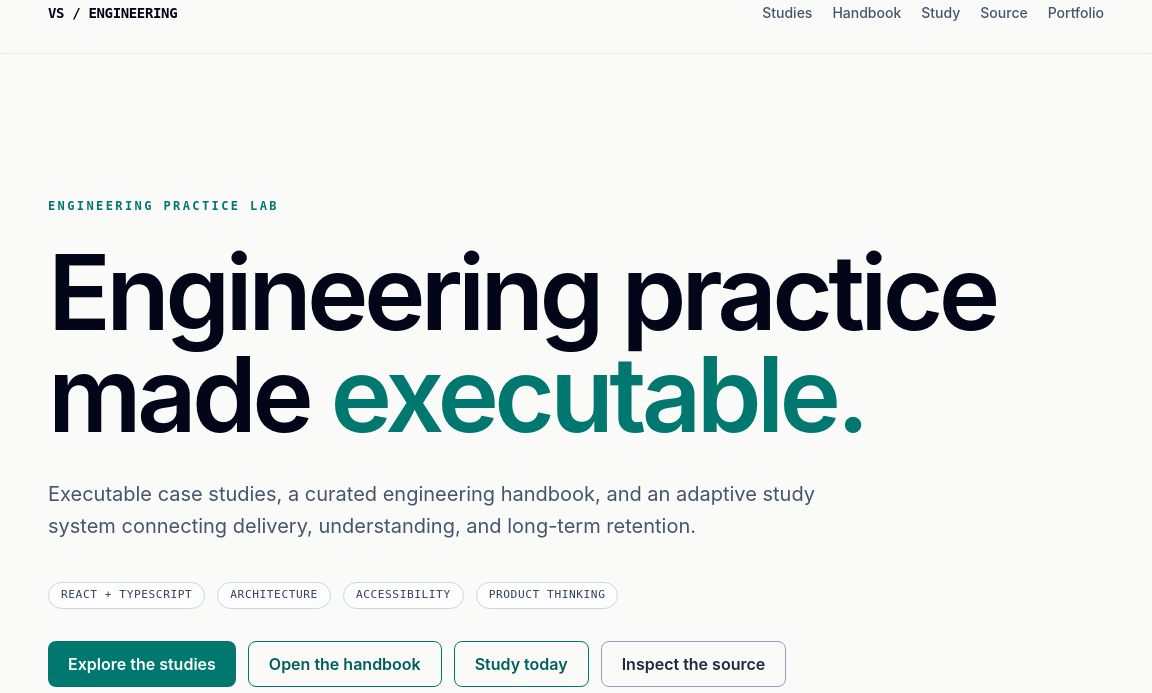
Test case: handbook pages › navigates from the homepage to the handbook and searches topics
Click the link "Open the handbook" at (345, 664), box [248, 641, 442, 687]
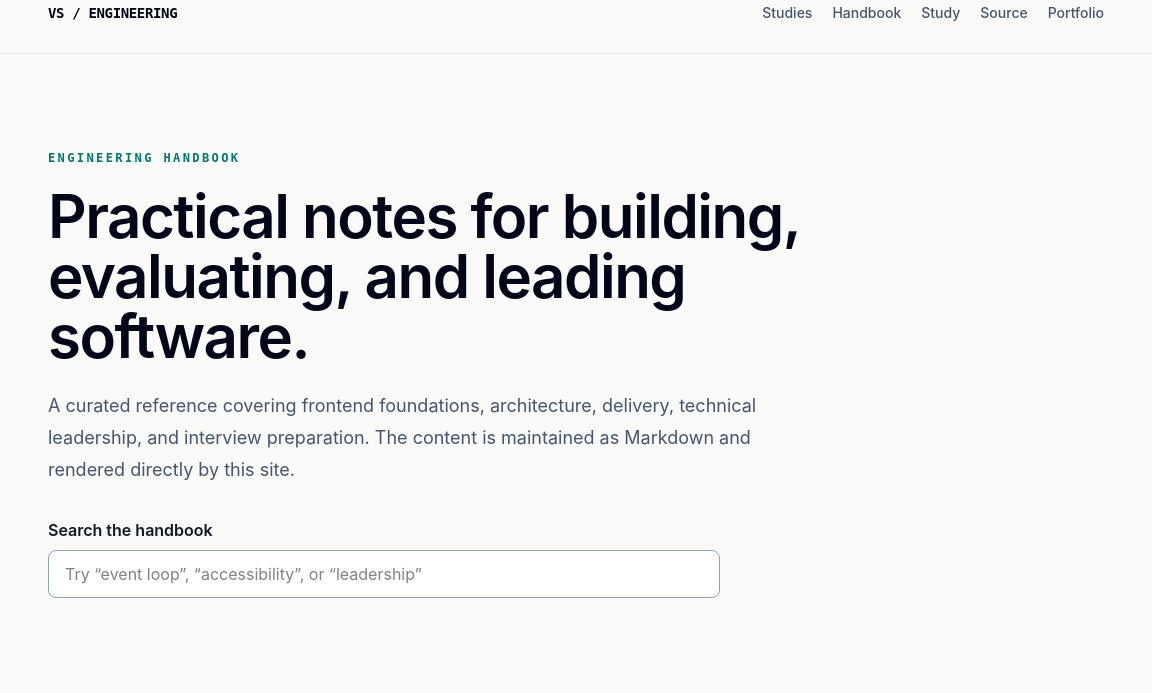
Expected: the heading "Practical notes for building" is shown, [48, 180, 799, 372]
Type "event loop" into the search field at (384, 574), box [48, 550, 720, 598]
(page scrolled)
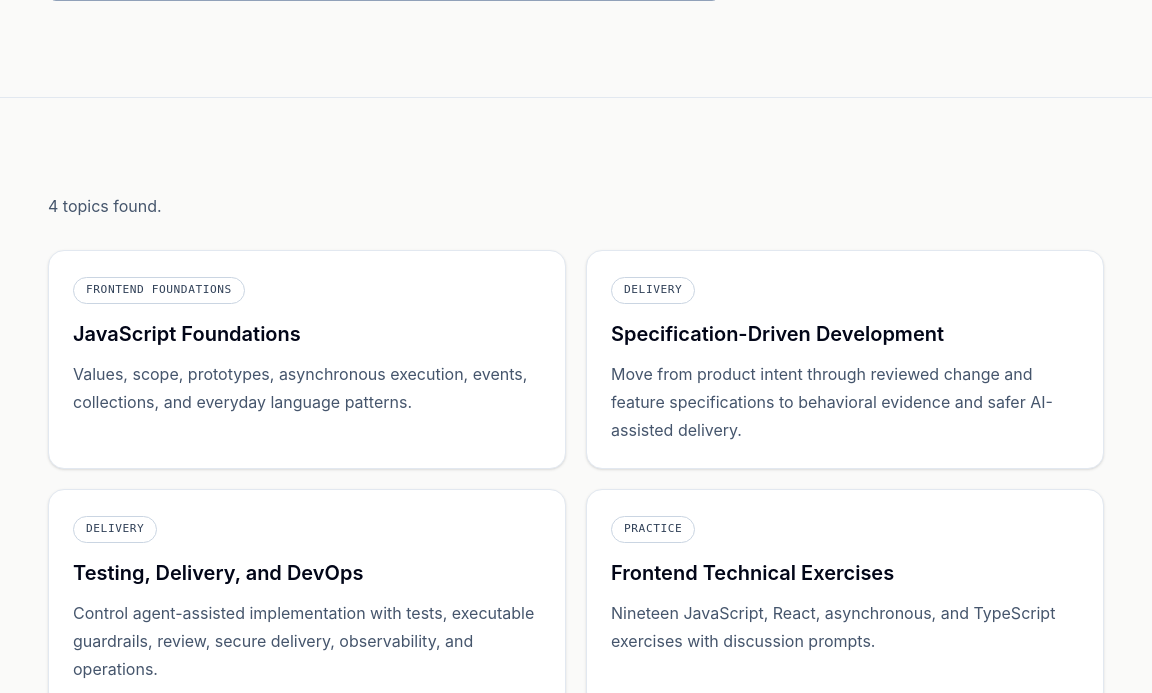
Expected: the link "JavaScript Foundations" is shown, [73, 322, 301, 346]
Expected: the text "4 topics found." is shown, [48, 196, 162, 216]
